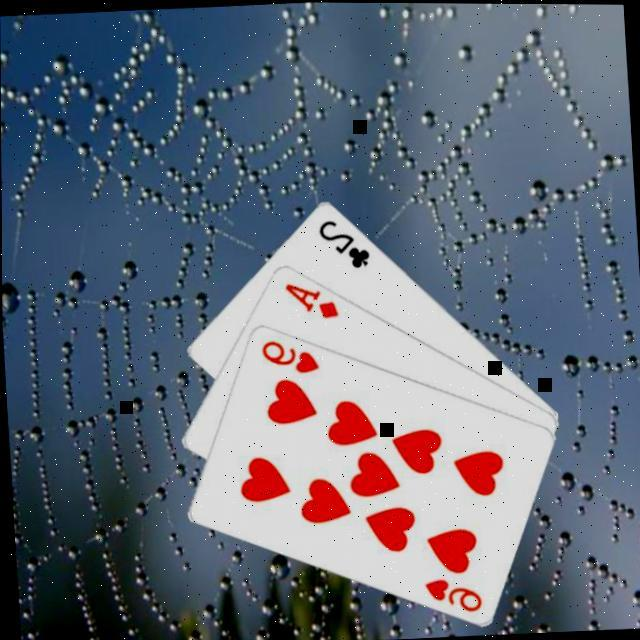2C: (316, 212, 376, 271)
9H: (258, 332, 324, 377), (422, 570, 486, 614)
AD: (282, 276, 342, 322)
